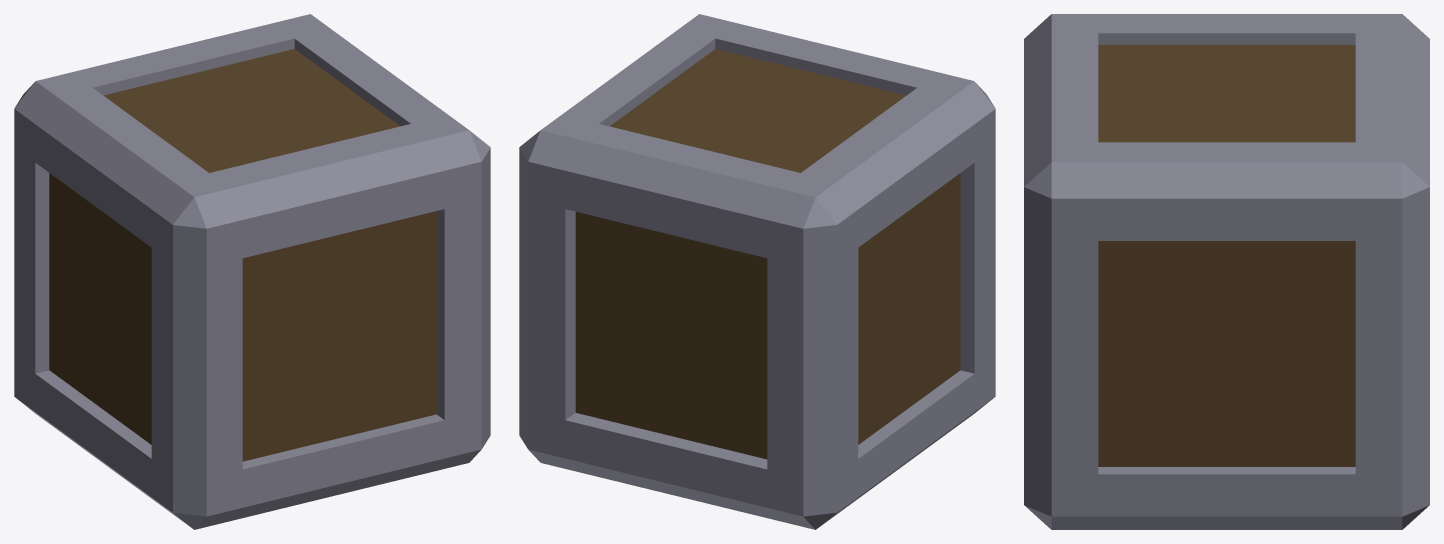
Rendered from Laatikko.fbx.
3 renders of one model, left to right at view 1: azimuth 30°, elevation 25°; view 2: azimuth 150°, elevation 25°; view 3: azimuth 270°, elevation 25°, orthographic. The views are drawn at different scales.
Parts seen in each view (by area): view 1: Reunat, Laatikon keskusta; view 2: Reunat, Laatikon keskusta; view 3: Reunat, Laatikon keskusta.
Part boxes in pixels (x1,y1,x2,y2): Reunat: [14, 14, 490, 529]; Laatikon keskusta: [49, 49, 436, 461]; Reunat: [519, 14, 995, 529]; Laatikon keskusta: [575, 49, 960, 459]; Reunat: [1024, 14, 1429, 529]; Laatikon keskusta: [1098, 45, 1355, 466].
Size of the model in its own units: 200 by 200 by 200.
